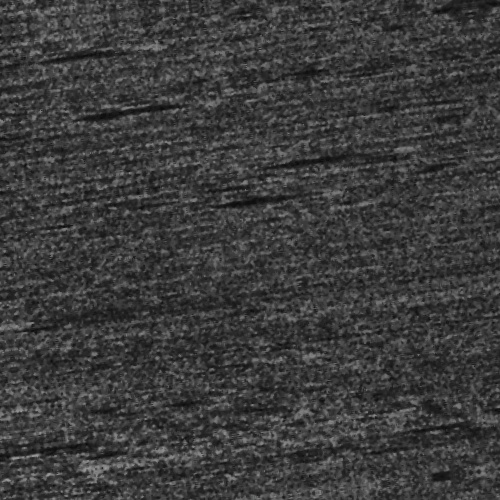object: (13, 492, 86, 500), (376, 162, 459, 169), (284, 195, 347, 202), (0, 285, 25, 298), (181, 91, 244, 96)
shadow: (324, 162, 417, 169), (227, 195, 315, 202), (94, 91, 212, 96), (0, 492, 50, 500)
